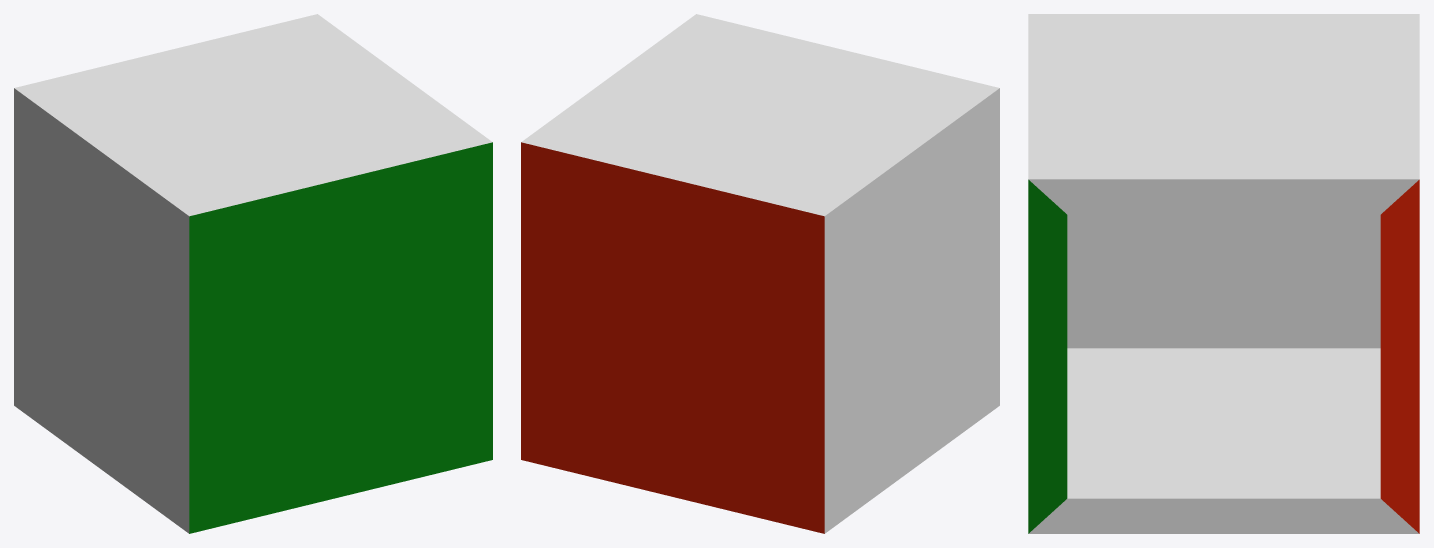
Rendered from CornellBox.fbx.
3 views of the same model, side by side, from view 1: azimuth 30°, elevation 25°; view 2: azimuth 150°, elevation 25°; view 3: azimuth 270°, elevation 25° (orthographic). The views are drawn at different scales.
Parts seen in each view (by area): view 1: Cube; view 2: Cube; view 3: Cube.
Boxes of the visible parts, x1,y1,x2,y2 form: Cube: (14,14,492,533); Cube: (521,14,999,533); Cube: (1028,14,1419,533).
Bounding box in the file's own units: 1102 × 1102 × 1102.
